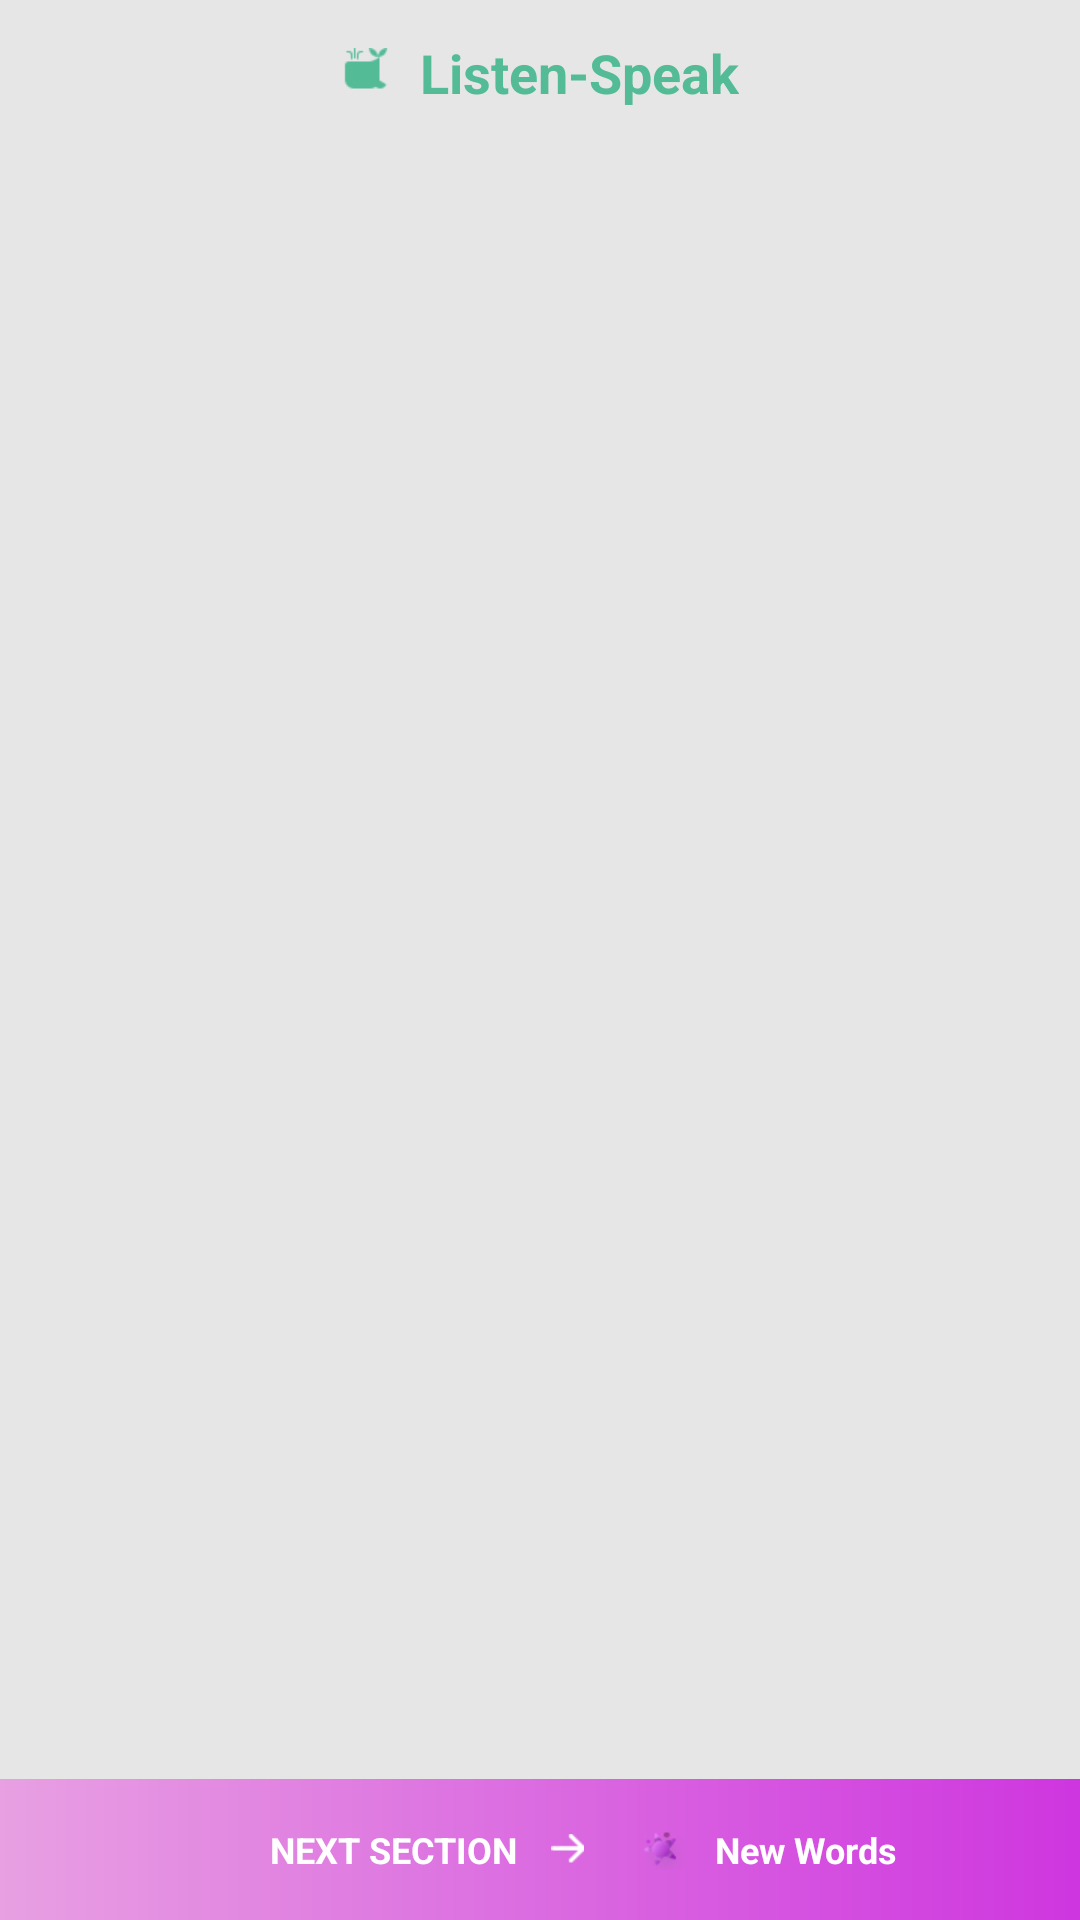

Named icons in this screenshot (1080x1920) and their bounding boxes, [left=x1, top=y1, right=x2, bottom=y2]:
explannationpage next: [left=551, top=1834, right=584, bottom=1863]
